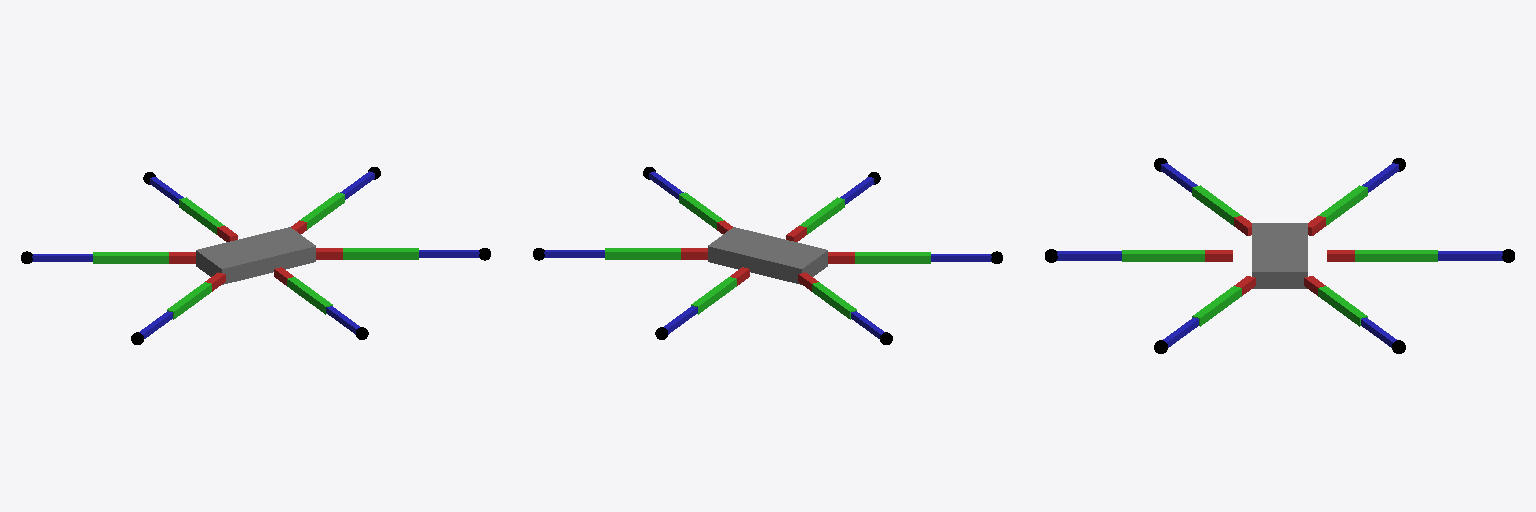
URDF robot description (slarc):
<?xml version="1.0"?><robot name="slarc">
<link name="base_link">
  <visual><geometry><box size="0.25 0.12 0.04"/></geometry>
  <material name="g"><color rgba="0.5 0.5 0.5 1"/></material></visual>
  <collision><geometry><box size="0.25 0.12 0.04"/></geometry></collision>
  <inertial><mass value="1.29"/><inertia ixx="0.015" ixy="0" ixz="0" iyy="0.015" iyz="0" izz="0.015"/></inertial>
</link>
<joint name="front_right_coxa_joint" type="revolute">
  <parent link="base_link"/><child link="front_right_coxa"/>
  <origin xyz="0.125 -0.06 0" rpy="0 0 -0.5235987755982988"/><axis xyz="0 0 1"/>
  <limit lower="-3.14" upper="3.14" effort="5" velocity="5"/>
</joint>
<link name="front_right_coxa">
  <visual><origin xyz="0.03 0 0"/>
  <geometry><box size="0.06 0.02 0.02"/></geometry>
  <material name="r"><color rgba="0.8 0.2 0.2 1"/></material></visual>
  <inertial><mass value="0.08"/><inertia ixx="2e-4" ixy="0" ixz="0" iyy="2e-4" iyz="0" izz="2e-4"/></inertial>
</link>
<joint name="front_right_femur_joint" type="revolute">
  <parent link="front_right_coxa"/><child link="front_right_femur"/>
  <origin xyz="0.06 0 0" rpy="0 0 0"/><axis xyz="0 1 0"/>
  <limit lower="-3.14" upper="3.14" effort="5" velocity="5"/>
</joint>
<link name="front_right_femur">
  <visual><origin xyz="0.0875 0 0"/>
  <geometry><box size="0.175 0.02 0.02"/></geometry>
  <material name="gg"><color rgba="0.2 0.8 0.2 1"/></material></visual>
  <inertial><mass value="0.095"/><inertia ixx="3e-4" ixy="0" ixz="0" iyy="3e-4" iyz="0" izz="3e-4"/></inertial>
</link>
<joint name="front_right_tibia_joint" type="revolute">
  <parent link="front_right_femur"/><child link="front_right_tibia"/>
  <origin xyz="0.175 0 0" rpy="0 0 0"/><axis xyz="0 1 0"/>
  <limit lower="-3.14" upper="3.14" effort="5" velocity="5"/>
</joint>
<link name="front_right_tibia">
  <visual><origin xyz="0.075 0 0"/>
  <geometry><box size="0.15 0.015 0.015"/></geometry>
  <material name="b"><color rgba="0.2 0.2 0.8 1"/></material></visual>
  <inertial><mass value="0.025"/><inertia ixx="1e-4" ixy="0" ixz="0" iyy="1e-4" iyz="0" izz="1e-4"/></inertial>
</link>
<joint name="front_right_foot_joint" type="fixed">
  <parent link="front_right_tibia"/><child link="front_right_foot"/>
  <origin xyz="0.15 0 0"/>
</joint>
<link name="front_right_foot">
  <visual><geometry><sphere radius="0.015"/></geometry>
  <material name="bk"><color rgba="0 0 0 1"/></material></visual>
  <inertial><mass value="0.015"/><inertia ixx="2e-5" ixy="0" ixz="0" iyy="2e-5" iyz="0" izz="2e-5"/></inertial>
</link>
<joint name="front_left_coxa_joint" type="revolute">
  <parent link="base_link"/><child link="front_left_coxa"/>
  <origin xyz="0.125 0.06 0" rpy="0 0 0.5235987755982988"/><axis xyz="0 0 1"/>
  <limit lower="-3.14" upper="3.14" effort="5" velocity="5"/>
</joint>
<link name="front_left_coxa">
  <visual><origin xyz="0.03 0 0"/>
  <geometry><box size="0.06 0.02 0.02"/></geometry>
  <material name="r"><color rgba="0.8 0.2 0.2 1"/></material></visual>
  <inertial><mass value="0.08"/><inertia ixx="2e-4" ixy="0" ixz="0" iyy="2e-4" iyz="0" izz="2e-4"/></inertial>
</link>
<joint name="front_left_femur_joint" type="revolute">
  <parent link="front_left_coxa"/><child link="front_left_femur"/>
  <origin xyz="0.06 0 0" rpy="0 0 0"/><axis xyz="0 1 0"/>
  <limit lower="-3.14" upper="3.14" effort="5" velocity="5"/>
</joint>
<link name="front_left_femur">
  <visual><origin xyz="0.0875 0 0"/>
  <geometry><box size="0.175 0.02 0.02"/></geometry>
  <material name="gg"><color rgba="0.2 0.8 0.2 1"/></material></visual>
  <inertial><mass value="0.095"/><inertia ixx="3e-4" ixy="0" ixz="0" iyy="3e-4" iyz="0" izz="3e-4"/></inertial>
</link>
<joint name="front_left_tibia_joint" type="revolute">
  <parent link="front_left_femur"/><child link="front_left_tibia"/>
  <origin xyz="0.175 0 0" rpy="0 0 0"/><axis xyz="0 1 0"/>
  <limit lower="-3.14" upper="3.14" effort="5" velocity="5"/>
</joint>
<link name="front_left_tibia">
  <visual><origin xyz="0.075 0 0"/>
  <geometry><box size="0.15 0.015 0.015"/></geometry>
  <material name="b"><color rgba="0.2 0.2 0.8 1"/></material></visual>
  <inertial><mass value="0.025"/><inertia ixx="1e-4" ixy="0" ixz="0" iyy="1e-4" iyz="0" izz="1e-4"/></inertial>
</link>
<joint name="front_left_foot_joint" type="fixed">
  <parent link="front_left_tibia"/><child link="front_left_foot"/>
  <origin xyz="0.15 0 0"/>
</joint>
<link name="front_left_foot">
  <visual><geometry><sphere radius="0.015"/></geometry>
  <material name="bk"><color rgba="0 0 0 1"/></material></visual>
  <inertial><mass value="0.015"/><inertia ixx="2e-5" ixy="0" ixz="0" iyy="2e-5" iyz="0" izz="2e-5"/></inertial>
</link>
<joint name="mid_right_coxa_joint" type="revolute">
  <parent link="base_link"/><child link="mid_right_coxa"/>
  <origin xyz="0 -0.1 0" rpy="0 0 -1.5707963267948966"/><axis xyz="0 0 1"/>
  <limit lower="-3.14" upper="3.14" effort="5" velocity="5"/>
</joint>
<link name="mid_right_coxa">
  <visual><origin xyz="0.03 0 0"/>
  <geometry><box size="0.06 0.02 0.02"/></geometry>
  <material name="r"><color rgba="0.8 0.2 0.2 1"/></material></visual>
  <inertial><mass value="0.08"/><inertia ixx="2e-4" ixy="0" ixz="0" iyy="2e-4" iyz="0" izz="2e-4"/></inertial>
</link>
<joint name="mid_right_femur_joint" type="revolute">
  <parent link="mid_right_coxa"/><child link="mid_right_femur"/>
  <origin xyz="0.06 0 0" rpy="0 0 0"/><axis xyz="0 1 0"/>
  <limit lower="-3.14" upper="3.14" effort="5" velocity="5"/>
</joint>
<link name="mid_right_femur">
  <visual><origin xyz="0.0875 0 0"/>
  <geometry><box size="0.175 0.02 0.02"/></geometry>
  <material name="gg"><color rgba="0.2 0.8 0.2 1"/></material></visual>
  <inertial><mass value="0.095"/><inertia ixx="3e-4" ixy="0" ixz="0" iyy="3e-4" iyz="0" izz="3e-4"/></inertial>
</link>
<joint name="mid_right_tibia_joint" type="revolute">
  <parent link="mid_right_femur"/><child link="mid_right_tibia"/>
  <origin xyz="0.175 0 0" rpy="0 0 0"/><axis xyz="0 1 0"/>
  <limit lower="-3.14" upper="3.14" effort="5" velocity="5"/>
</joint>
<link name="mid_right_tibia">
  <visual><origin xyz="0.075 0 0"/>
  <geometry><box size="0.15 0.015 0.015"/></geometry>
  <material name="b"><color rgba="0.2 0.2 0.8 1"/></material></visual>
  <inertial><mass value="0.025"/><inertia ixx="1e-4" ixy="0" ixz="0" iyy="1e-4" iyz="0" izz="1e-4"/></inertial>
</link>
<joint name="mid_right_foot_joint" type="fixed">
  <parent link="mid_right_tibia"/><child link="mid_right_foot"/>
  <origin xyz="0.15 0 0"/>
</joint>
<link name="mid_right_foot">
  <visual><geometry><sphere radius="0.015"/></geometry>
  <material name="bk"><color rgba="0 0 0 1"/></material></visual>
  <inertial><mass value="0.015"/><inertia ixx="2e-5" ixy="0" ixz="0" iyy="2e-5" iyz="0" izz="2e-5"/></inertial>
</link>
<joint name="mid_left_coxa_joint" type="revolute">
  <parent link="base_link"/><child link="mid_left_coxa"/>
  <origin xyz="0 0.1 0" rpy="0 0 1.5707963267948966"/><axis xyz="0 0 1"/>
  <limit lower="-3.14" upper="3.14" effort="5" velocity="5"/>
</joint>
<link name="mid_left_coxa">
  <visual><origin xyz="0.03 0 0"/>
  <geometry><box size="0.06 0.02 0.02"/></geometry>
  <material name="r"><color rgba="0.8 0.2 0.2 1"/></material></visual>
  <inertial><mass value="0.08"/><inertia ixx="2e-4" ixy="0" ixz="0" iyy="2e-4" iyz="0" izz="2e-4"/></inertial>
</link>
<joint name="mid_left_femur_joint" type="revolute">
  <parent link="mid_left_coxa"/><child link="mid_left_femur"/>
  <origin xyz="0.06 0 0" rpy="0 0 0"/><axis xyz="0 1 0"/>
  <limit lower="-3.14" upper="3.14" effort="5" velocity="5"/>
</joint>
<link name="mid_left_femur">
  <visual><origin xyz="0.0875 0 0"/>
  <geometry><box size="0.175 0.02 0.02"/></geometry>
  <material name="gg"><color rgba="0.2 0.8 0.2 1"/></material></visual>
  <inertial><mass value="0.095"/><inertia ixx="3e-4" ixy="0" ixz="0" iyy="3e-4" iyz="0" izz="3e-4"/></inertial>
</link>
<joint name="mid_left_tibia_joint" type="revolute">
  <parent link="mid_left_femur"/><child link="mid_left_tibia"/>
  <origin xyz="0.175 0 0" rpy="0 0 0"/><axis xyz="0 1 0"/>
  <limit lower="-3.14" upper="3.14" effort="5" velocity="5"/>
</joint>
<link name="mid_left_tibia">
  <visual><origin xyz="0.075 0 0"/>
  <geometry><box size="0.15 0.015 0.015"/></geometry>
  <material name="b"><color rgba="0.2 0.2 0.8 1"/></material></visual>
  <inertial><mass value="0.025"/><inertia ixx="1e-4" ixy="0" ixz="0" iyy="1e-4" iyz="0" izz="1e-4"/></inertial>
</link>
<joint name="mid_left_foot_joint" type="fixed">
  <parent link="mid_left_tibia"/><child link="mid_left_foot"/>
  <origin xyz="0.15 0 0"/>
</joint>
<link name="mid_left_foot">
  <visual><geometry><sphere radius="0.015"/></geometry>
  <material name="bk"><color rgba="0 0 0 1"/></material></visual>
  <inertial><mass value="0.015"/><inertia ixx="2e-5" ixy="0" ixz="0" iyy="2e-5" iyz="0" izz="2e-5"/></inertial>
</link>
<joint name="rear_right_coxa_joint" type="revolute">
  <parent link="base_link"/><child link="rear_right_coxa"/>
  <origin xyz="-0.125 -0.06 0" rpy="0 0 -2.6179938779914944"/><axis xyz="0 0 1"/>
  <limit lower="-3.14" upper="3.14" effort="5" velocity="5"/>
</joint>
<link name="rear_right_coxa">
  <visual><origin xyz="0.03 0 0"/>
  <geometry><box size="0.06 0.02 0.02"/></geometry>
  <material name="r"><color rgba="0.8 0.2 0.2 1"/></material></visual>
  <inertial><mass value="0.08"/><inertia ixx="2e-4" ixy="0" ixz="0" iyy="2e-4" iyz="0" izz="2e-4"/></inertial>
</link>
<joint name="rear_right_femur_joint" type="revolute">
  <parent link="rear_right_coxa"/><child link="rear_right_femur"/>
  <origin xyz="0.06 0 0" rpy="0 0 0"/><axis xyz="0 1 0"/>
  <limit lower="-3.14" upper="3.14" effort="5" velocity="5"/>
</joint>
<link name="rear_right_femur">
  <visual><origin xyz="0.0875 0 0"/>
  <geometry><box size="0.175 0.02 0.02"/></geometry>
  <material name="gg"><color rgba="0.2 0.8 0.2 1"/></material></visual>
  <inertial><mass value="0.095"/><inertia ixx="3e-4" ixy="0" ixz="0" iyy="3e-4" iyz="0" izz="3e-4"/></inertial>
</link>
<joint name="rear_right_tibia_joint" type="revolute">
  <parent link="rear_right_femur"/><child link="rear_right_tibia"/>
  <origin xyz="0.175 0 0" rpy="0 0 0"/><axis xyz="0 1 0"/>
  <limit lower="-3.14" upper="3.14" effort="5" velocity="5"/>
</joint>
<link name="rear_right_tibia">
  <visual><origin xyz="0.075 0 0"/>
  <geometry><box size="0.15 0.015 0.015"/></geometry>
  <material name="b"><color rgba="0.2 0.2 0.8 1"/></material></visual>
  <inertial><mass value="0.025"/><inertia ixx="1e-4" ixy="0" ixz="0" iyy="1e-4" iyz="0" izz="1e-4"/></inertial>
</link>
<joint name="rear_right_foot_joint" type="fixed">
  <parent link="rear_right_tibia"/><child link="rear_right_foot"/>
  <origin xyz="0.15 0 0"/>
</joint>
<link name="rear_right_foot">
  <visual><geometry><sphere radius="0.015"/></geometry>
  <material name="bk"><color rgba="0 0 0 1"/></material></visual>
  <inertial><mass value="0.015"/><inertia ixx="2e-5" ixy="0" ixz="0" iyy="2e-5" iyz="0" izz="2e-5"/></inertial>
</link>
<joint name="rear_left_coxa_joint" type="revolute">
  <parent link="base_link"/><child link="rear_left_coxa"/>
  <origin xyz="-0.125 0.06 0" rpy="0 0 2.6179938779914944"/><axis xyz="0 0 1"/>
  <limit lower="-3.14" upper="3.14" effort="5" velocity="5"/>
</joint>
<link name="rear_left_coxa">
  <visual><origin xyz="0.03 0 0"/>
  <geometry><box size="0.06 0.02 0.02"/></geometry>
  <material name="r"><color rgba="0.8 0.2 0.2 1"/></material></visual>
  <inertial><mass value="0.08"/><inertia ixx="2e-4" ixy="0" ixz="0" iyy="2e-4" iyz="0" izz="2e-4"/></inertial>
</link>
<joint name="rear_left_femur_joint" type="revolute">
  <parent link="rear_left_coxa"/><child link="rear_left_femur"/>
  <origin xyz="0.06 0 0" rpy="0 0 0"/><axis xyz="0 1 0"/>
  <limit lower="-3.14" upper="3.14" effort="5" velocity="5"/>
</joint>
<link name="rear_left_femur">
  <visual><origin xyz="0.0875 0 0"/>
  <geometry><box size="0.175 0.02 0.02"/></geometry>
  <material name="gg"><color rgba="0.2 0.8 0.2 1"/></material></visual>
  <inertial><mass value="0.095"/><inertia ixx="3e-4" ixy="0" ixz="0" iyy="3e-4" iyz="0" izz="3e-4"/></inertial>
</link>
<joint name="rear_left_tibia_joint" type="revolute">
  <parent link="rear_left_femur"/><child link="rear_left_tibia"/>
  <origin xyz="0.175 0 0" rpy="0 0 0"/><axis xyz="0 1 0"/>
  <limit lower="-3.14" upper="3.14" effort="5" velocity="5"/>
</joint>
<link name="rear_left_tibia">
  <visual><origin xyz="0.075 0 0"/>
  <geometry><box size="0.15 0.015 0.015"/></geometry>
  <material name="b"><color rgba="0.2 0.2 0.8 1"/></material></visual>
  <inertial><mass value="0.025"/><inertia ixx="1e-4" ixy="0" ixz="0" iyy="1e-4" iyz="0" izz="1e-4"/></inertial>
</link>
<joint name="rear_left_foot_joint" type="fixed">
  <parent link="rear_left_tibia"/><child link="rear_left_foot"/>
  <origin xyz="0.15 0 0"/>
</joint>
<link name="rear_left_foot">
  <visual><geometry><sphere radius="0.015"/></geometry>
  <material name="bk"><color rgba="0 0 0 1"/></material></visual>
  <inertial><mass value="0.015"/><inertia ixx="2e-5" ixy="0" ixz="0" iyy="2e-5" iyz="0" izz="2e-5"/></inertial>
</link></robot>

--- Render facts (derived) ---
3 views of the same robot in one strip: view 1: azimuth 30°, elevation 25°; view 2: azimuth 150°, elevation 25°; view 3: azimuth 270°, elevation 25° (orthographic).
Model slarc with 25 links and 24 joints (18 revolute, 6 fixed), rooted at base_link, posed every joint at zero.
Links seen in each view (by area): view 1: base_link, front_right_femur, rear_left_femur, mid_right_femur, rear_right_femur, mid_left_femur, front_left_femur; view 2: base_link, front_left_femur, rear_right_femur, mid_left_femur, rear_left_femur, mid_right_femur, front_right_femur; view 3: base_link, mid_right_femur, mid_left_femur, front_right_femur, front_left_femur, rear_right_femur, rear_left_femur, mid_right_tibia, mid_left_tibia.
Boxes of the visible links, x1,y1,x2,y2 form: base_link: [196, 227, 315, 284]; front_right_femur: [343, 248, 418, 259]; rear_left_femur: [93, 252, 168, 263]; mid_right_femur: [287, 277, 332, 314]; rear_right_femur: [167, 282, 211, 319]; mid_left_femur: [179, 197, 224, 234]; front_left_femur: [300, 192, 344, 229]; base_link: [708, 227, 827, 284]; front_left_femur: [605, 248, 680, 259]; rear_right_femur: [855, 252, 930, 263]; mid_left_femur: [691, 277, 736, 314]; rear_left_femur: [812, 282, 856, 319]; mid_right_femur: [799, 197, 844, 234]; front_right_femur: [679, 192, 723, 229]; base_link: [1252, 223, 1307, 288]; mid_right_femur: [1122, 250, 1204, 261]; mid_left_femur: [1355, 250, 1437, 261]; front_right_femur: [1192, 286, 1241, 326]; front_left_femur: [1318, 286, 1367, 326]; rear_right_femur: [1192, 185, 1241, 225]; rear_left_femur: [1318, 185, 1367, 225]; mid_right_tibia: [1057, 251, 1121, 260]; mid_left_tibia: [1438, 251, 1502, 260].
Bounding box of the posed robot: 0.9468 × 1 × 0.04 m (x, y, z).
Geometry: primitives only (box / cylinder / sphere), no mesh files.
